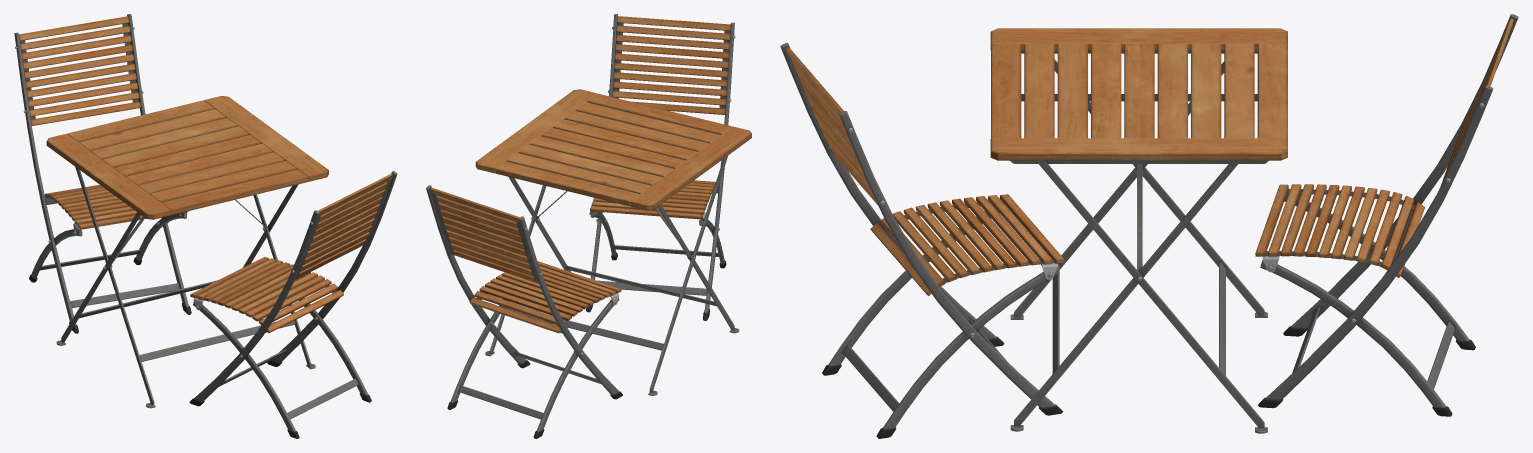
The model's file is cafetable.glb.
The picture shows the model from 3 angles, left to right: view 1: azimuth 30°, elevation 25°; view 2: azimuth 150°, elevation 25°; view 3: azimuth 270°, elevation 25°; orthographic projection. The views are drawn at different scales.
Parts seen in each view (by area): view 1: outdoor_table_chair_set_01_table, outdoor_table_chair_set_01_chair_02, outdoor_table_chair_set_01_chair_01; view 2: outdoor_table_chair_set_01_table, outdoor_table_chair_set_01_chair_02, outdoor_table_chair_set_01_chair_01; view 3: outdoor_table_chair_set_01_table, outdoor_table_chair_set_01_chair_01, outdoor_table_chair_set_01_chair_02.
Part boxes in pixels (x1,y1,x2,y2): outdoor_table_chair_set_01_table: [46, 96, 328, 408]; outdoor_table_chair_set_01_chair_02: [14, 14, 191, 333]; outdoor_table_chair_set_01_chair_01: [189, 171, 397, 438]; outdoor_table_chair_set_01_table: [475, 89, 751, 395]; outdoor_table_chair_set_01_chair_02: [426, 185, 622, 438]; outdoor_table_chair_set_01_chair_01: [586, 14, 735, 320]; outdoor_table_chair_set_01_table: [990, 28, 1287, 433]; outdoor_table_chair_set_01_chair_01: [780, 43, 1064, 438]; outdoor_table_chair_set_01_chair_02: [1255, 14, 1518, 416].
Bounding box in the file's own units: 0.7417 × 0.8586 × 1.72.
2 materials, 2 textured.
